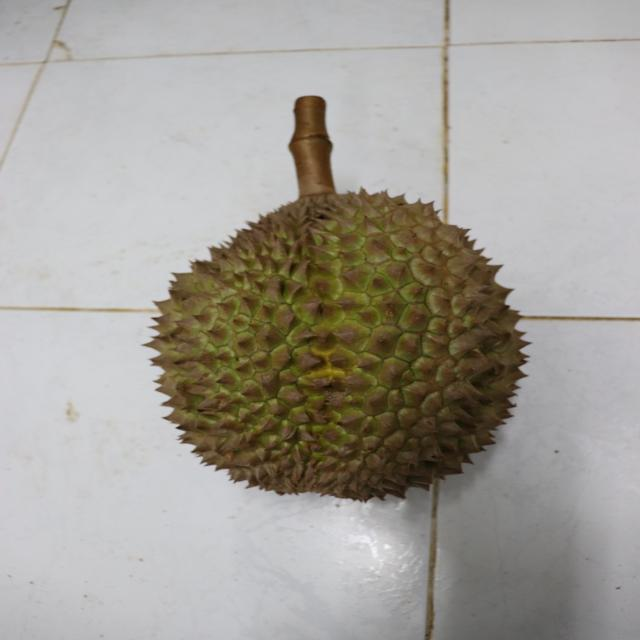mature: (146, 185, 532, 507)
